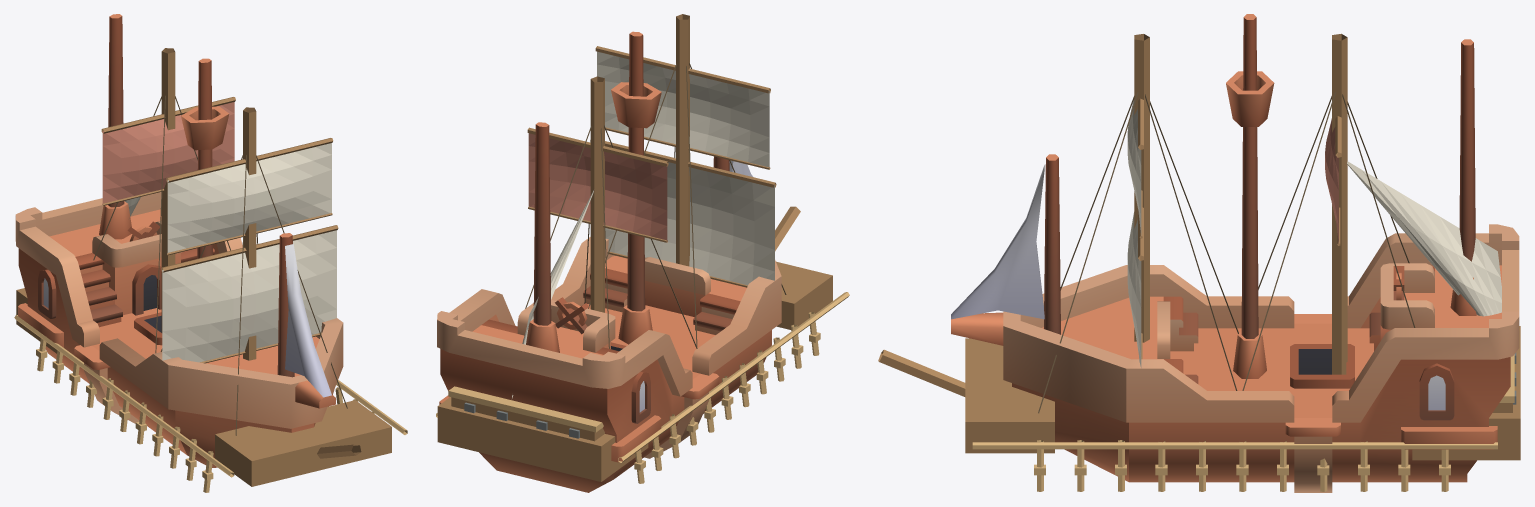
Rendered from fluyt-custom.glb.
3 views of the same model, side by side, from view 1: azimuth 30°, elevation 25°; view 2: azimuth 150°, elevation 25°; view 3: azimuth 270°, elevation 25° (orthographic). The views are drawn at different scales.
Parts seen in each view (by area): view 1: ship-large, fluyt cloth, fluyt wood, fluyt stripe, fluyt trim, fluyt rope; view 2: ship-large, fluyt wood, fluyt cloth, fluyt stripe, fluyt trim, fluyt rope; view 3: ship-large, fluyt wood, fluyt cloth, fluyt trim, fluyt rope, fluyt stripe.
Boxes of the visible parts, x1,y1,x2,y2 form: ship-large: (15,14,343,467); fluyt cloth: (124,143,336,362); fluyt wood: (16,48,391,486); fluyt stripe: (102,102,234,204); fluyt trim: (14,315,407,492); fluyt rope: (93,95,347,435); ship-large: (437,31,781,492); fluyt wood: (437,14,832,481); fluyt cloth: (512,51,774,398); fluyt stripe: (528,133,667,241); fluyt trim: (436,292,849,483); fluyt rope: (525,62,786,348); ship-large: (951,14,1519,492); fluyt wood: (878,33,1520,460); fluyt cloth: (1127,99,1501,367); fluyt trim: (972,354,1514,491); fluyt rope: (1038,92,1415,413); fluyt stripe: (1325,118,1338,243).
Bounding box in the file's own units: 5.57 × 10.26 × 13.33.
Materials: 7 (1 with a texture image).
